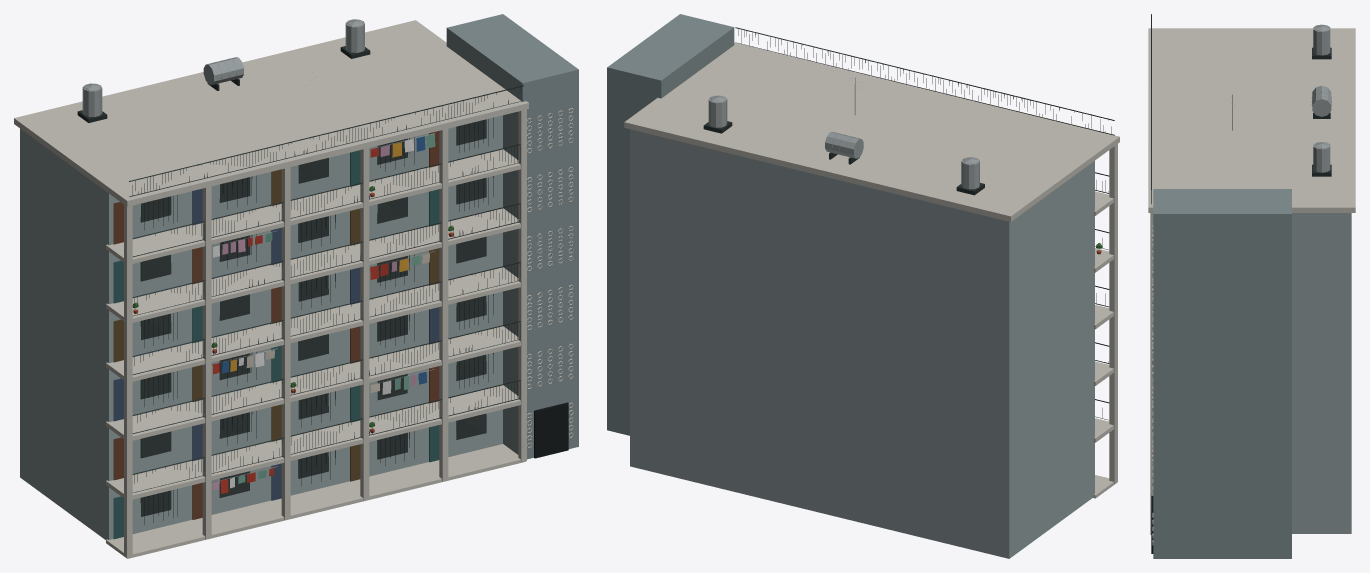
File: chung_cu_2.glb
The picture shows the model from 3 angles, left to right: view 1: azimuth 30°, elevation 25°; view 2: azimuth 150°, elevation 25°; view 3: azimuth 270°, elevation 25°; orthographic projection. The views are drawn at different scales.
Visible parts, largest first — view 1: chung_cu_2; view 2: chung_cu_2; view 3: chung_cu_2.
Boxes of the visible parts, left/top/right/bottom form: chung_cu_2: left=14, top=14, right=578, bottom=558; chung_cu_2: left=607, top=14, right=1119, bottom=558; chung_cu_2: left=1148, top=14, right=1355, bottom=558.
Bounding box in the file's own units: 24.2 × 20.3 × 10.45.
